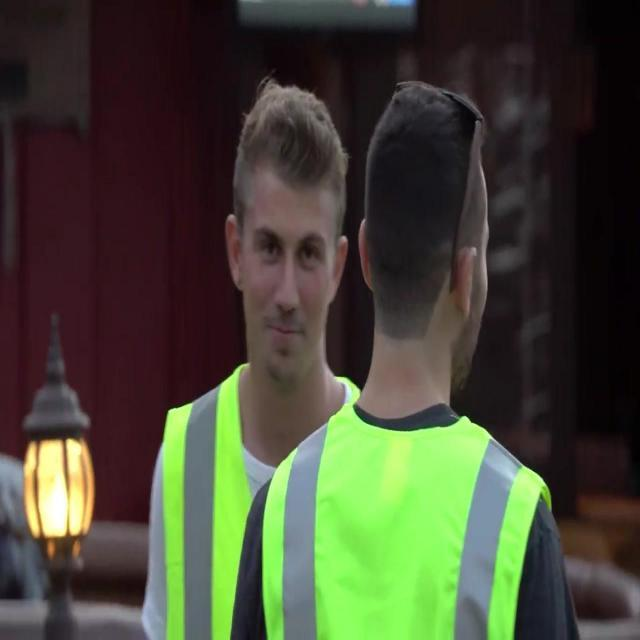reflective_jacket: (257, 405, 554, 639), (152, 368, 333, 637)
